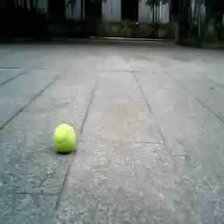tennis: (54, 124, 76, 149)
